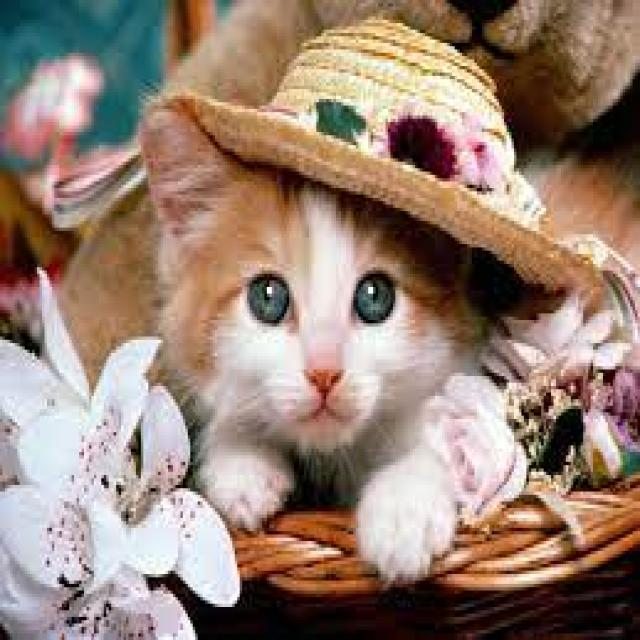Cat: (131, 82, 481, 588)
